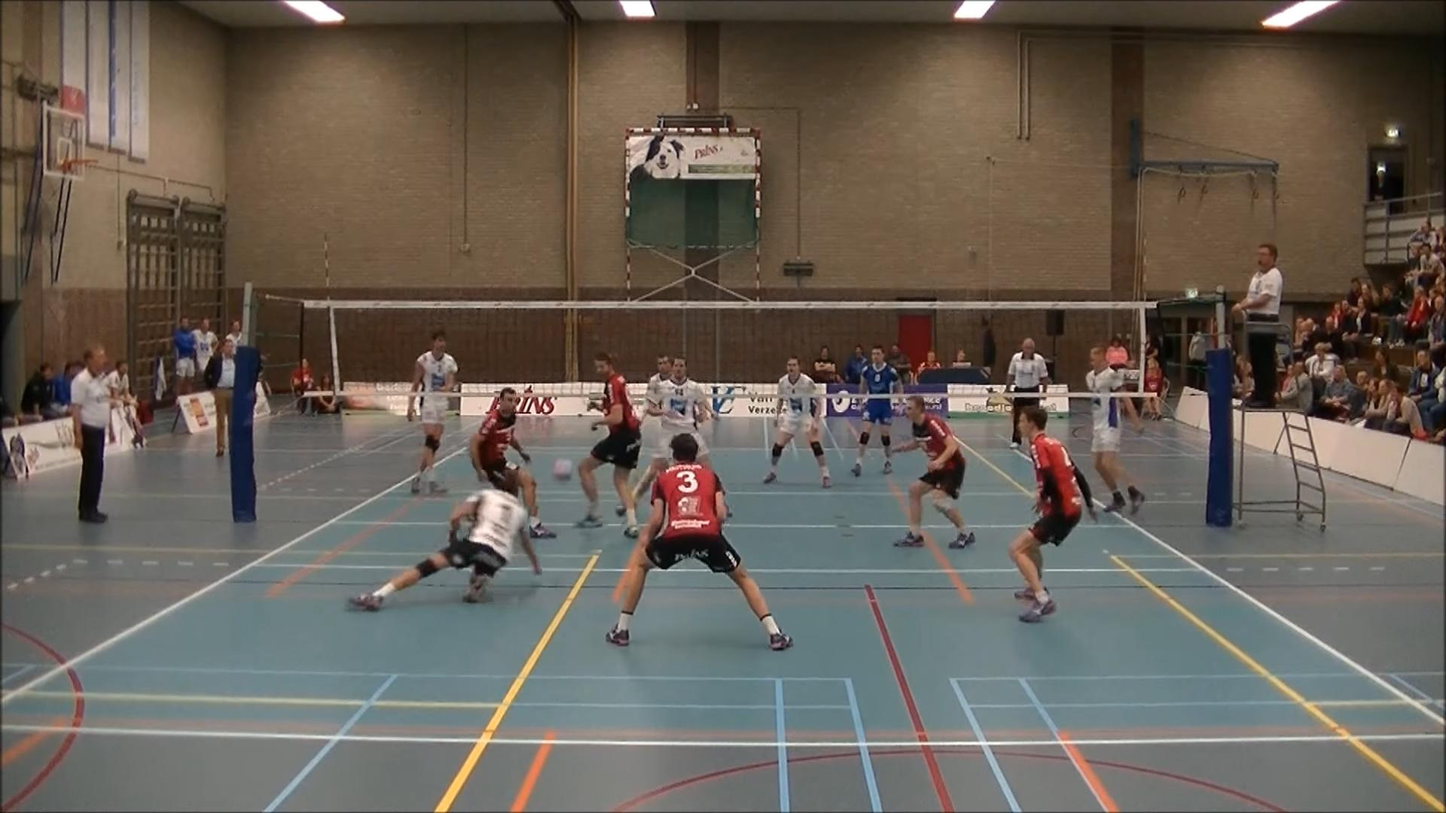Dig: (341, 467, 546, 612)
Player: (606, 434, 792, 650), (1008, 406, 1094, 622), (470, 387, 555, 538), (895, 396, 975, 549), (577, 353, 640, 537), (633, 357, 711, 504), (1086, 346, 1144, 513), (763, 356, 831, 488), (407, 331, 457, 493), (852, 345, 901, 476), (639, 355, 673, 448)
ball: (549, 455, 576, 484)
